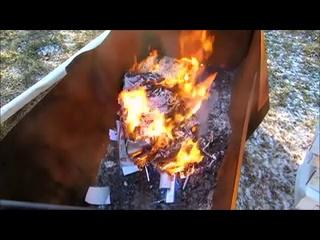Fire: (130, 42, 198, 180)
